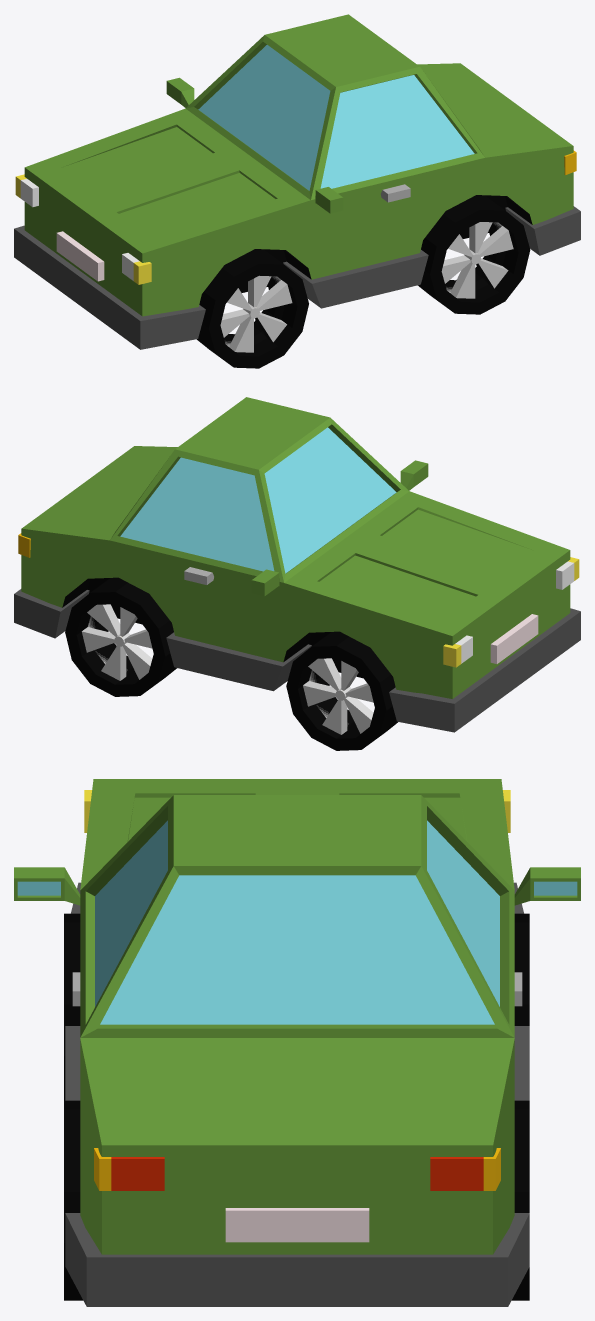
File: car3.fbx
3 views of the same model, one above another, from view 1: azimuth 30°, elevation 25°; view 2: azimuth 150°, elevation 25°; view 3: azimuth 270°, elevation 25° (orthographic). The views are drawn at different scales.
Parts seen in each view (by area): view 1: Car.001; view 2: Car.001; view 3: Car.001.
Boxes of the visible parts, bbox=[...] form: Car.001: bbox=[14, 14, 580, 368]; Car.001: bbox=[14, 397, 580, 750]; Car.001: bbox=[14, 779, 580, 1306].
Size of the model in its own units: 3.25 by 1.62 by 2.08.
